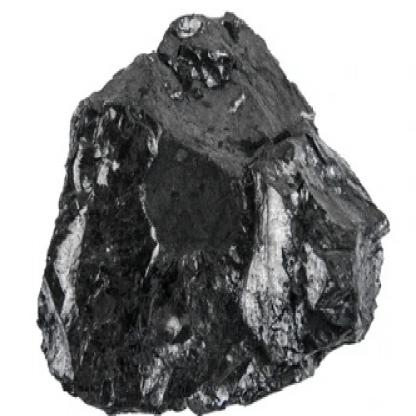Sedimentary_coal: (35, 0, 387, 415)
